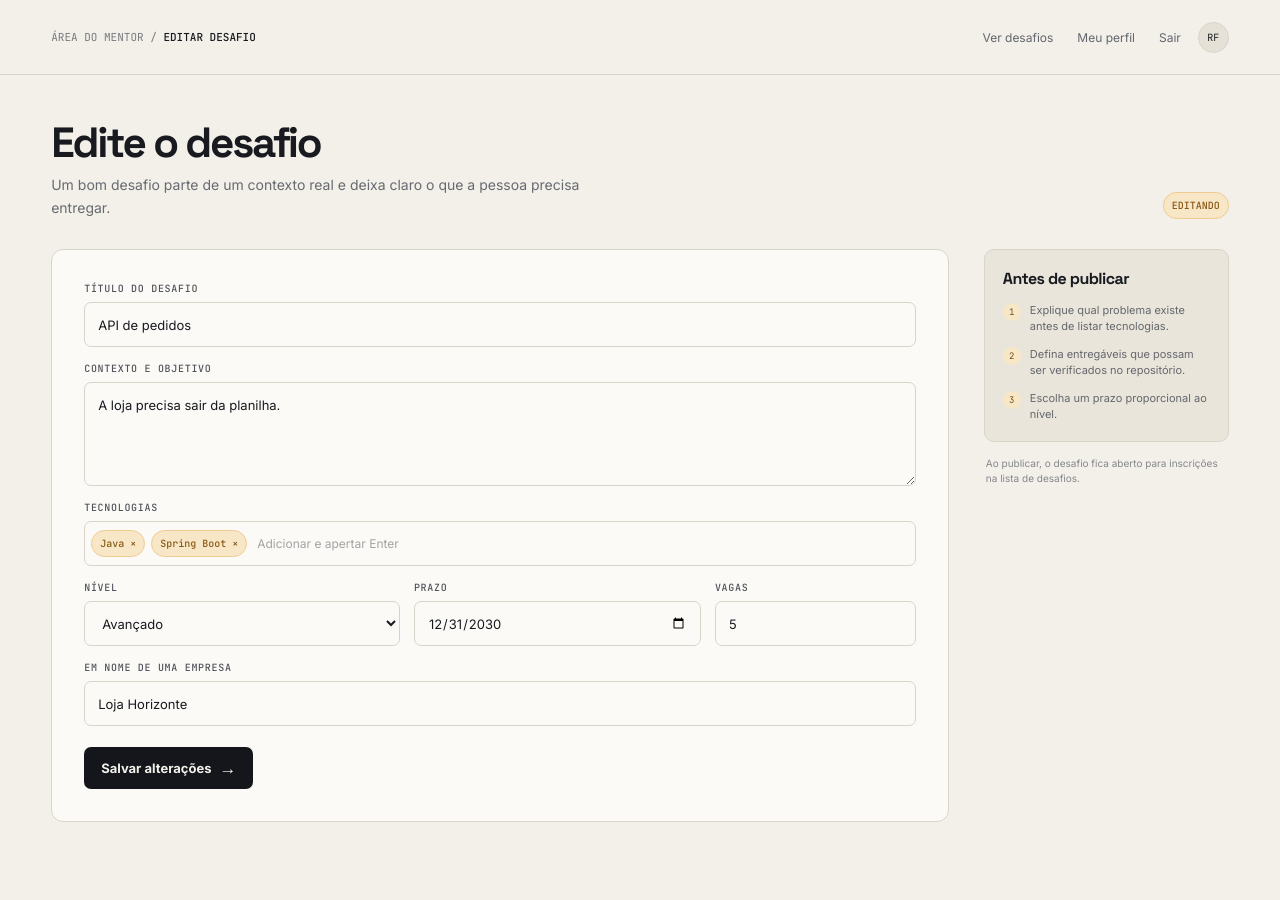
PostarDesafio editando › preenche o formulário com o desafio e salva com PUT
The width and height of the screenshot is (1280, 900).
Expected: the heading "Edite o desafio" is shown, [51,115,320,169]
Expected: the date field labelled "Prazo" holds "2030-12-31", [414,601,701,646]
Replace the text in the field labelled "Título do desafio" with "API de pedidos v2" at (500, 325), box [84,302,916,347]
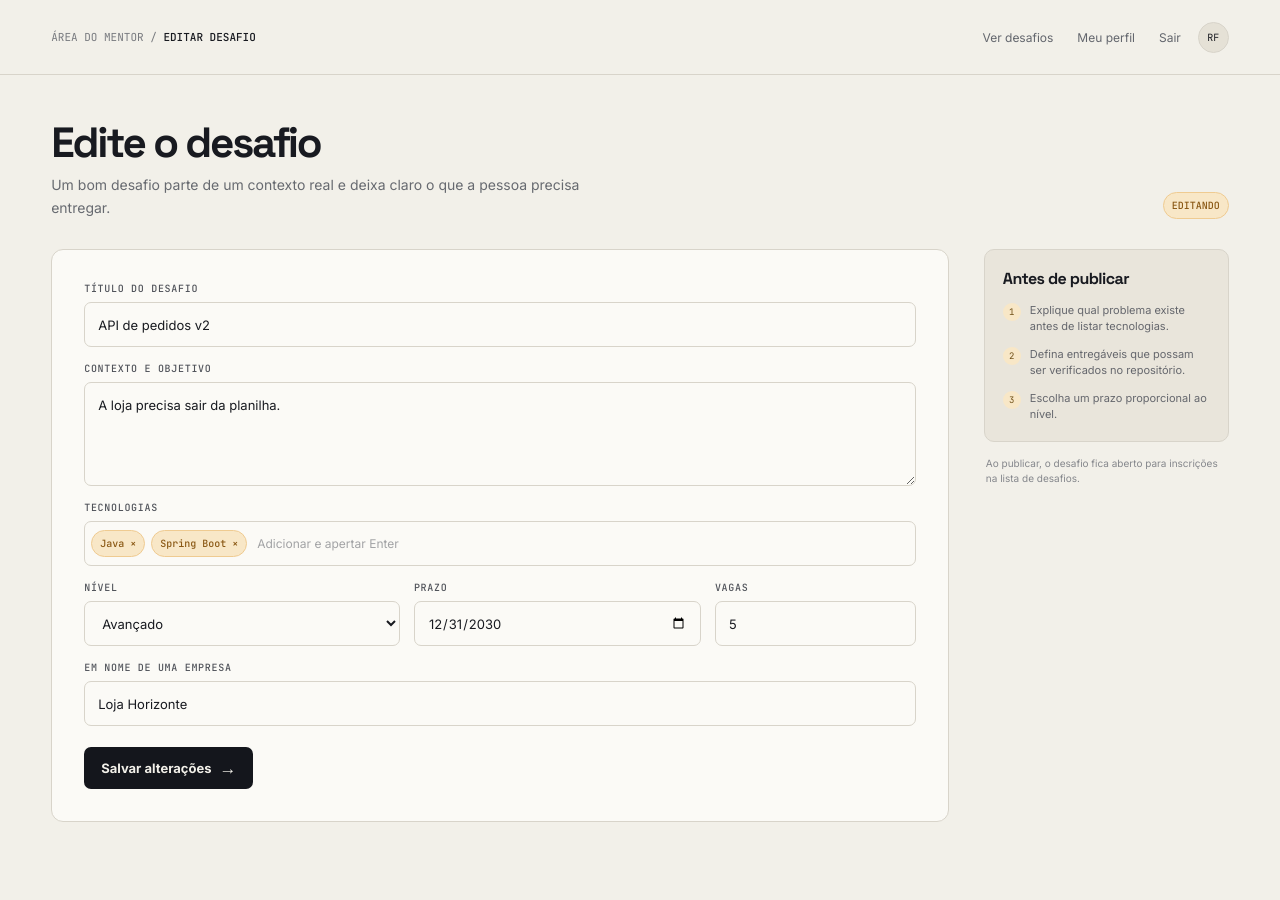
Click the button "Salvar alterações →".
click(169, 768)  # box [84,747,254,789]
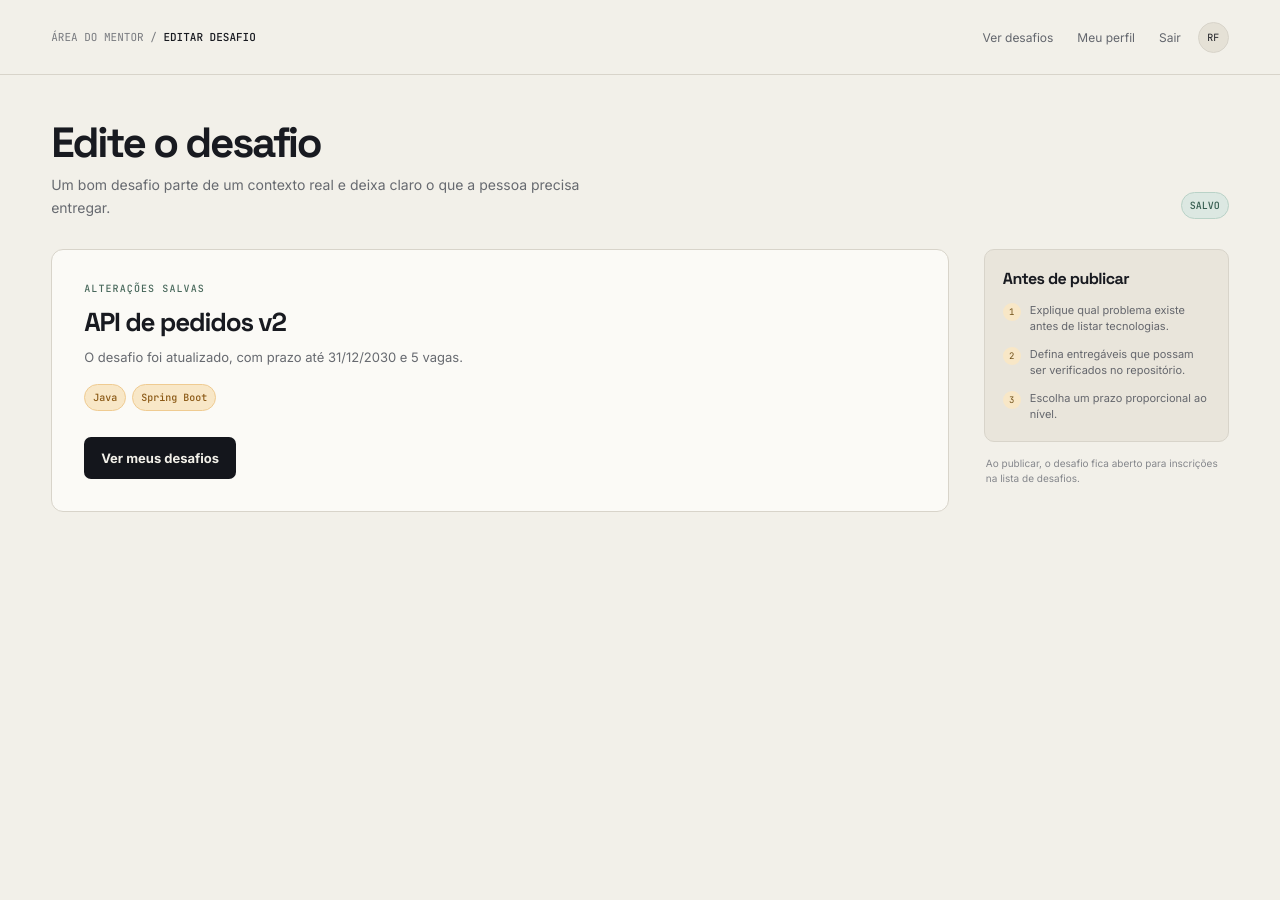
Now the text "Alterações salvas" is shown, box [84,282,205,295]
